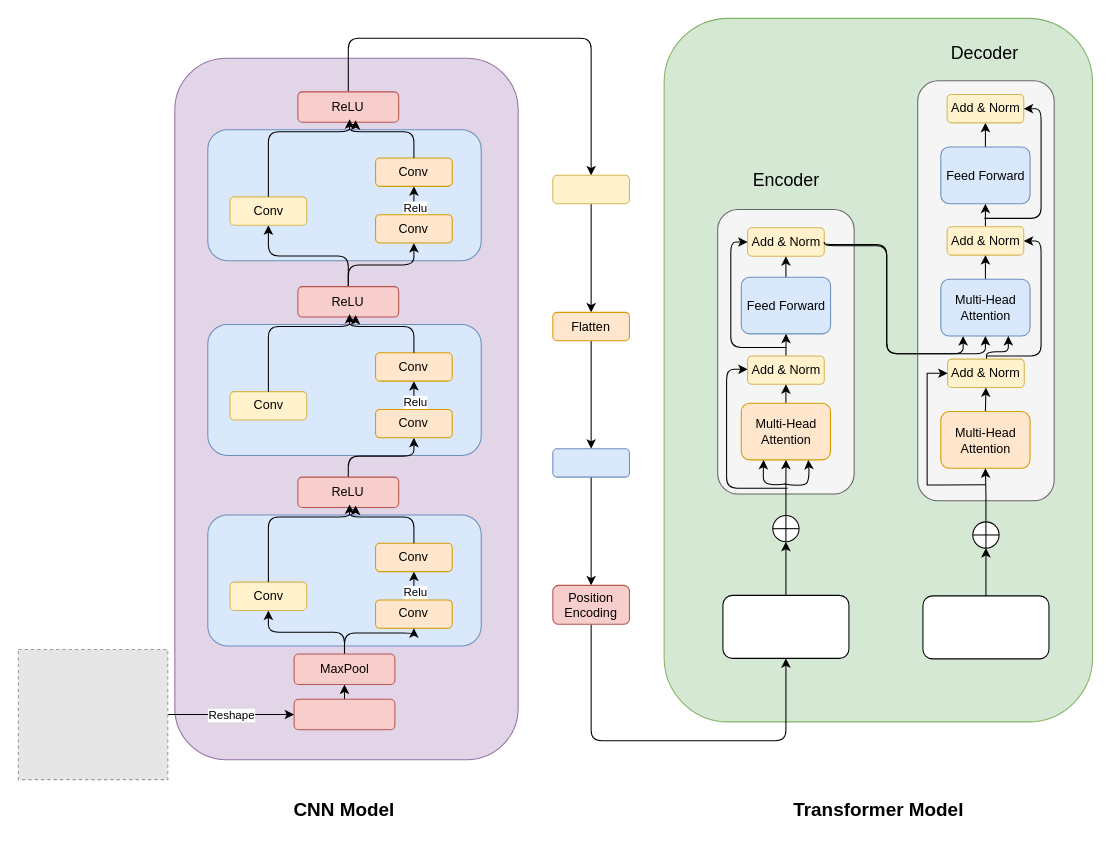
The diagram is 1111 pixels wide and 844 high, and some of its shapes have lost their labels. Grey dashed boxes stand in for pictures. The centre of each missing label's shape, as x and y in pixels:
"CNN processed images" goes at pixel 785 626.
"Concat" goes at pixel 590 462.
"Conv 1" goes at pixel 344 714.
"Decoder Input" goes at pixel 985 627.
"Pooling" goes at pixel 590 189.
